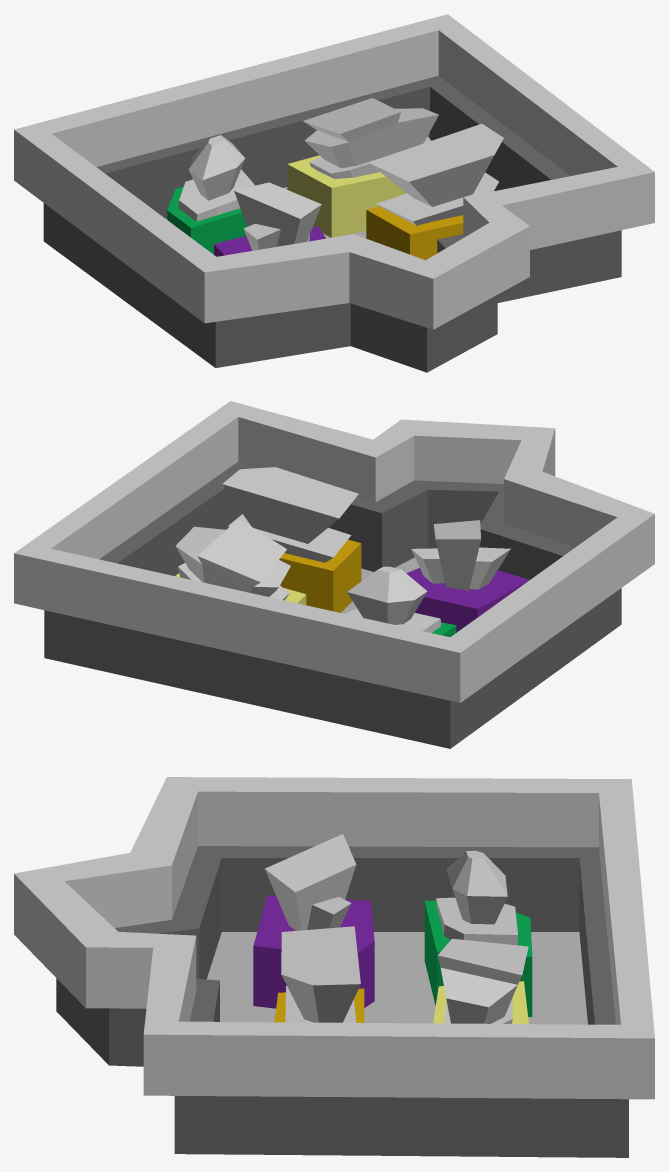
Rendered from level1_5.fbx.
The picture shows the model from 3 angles, top to bottom: view 1: azimuth 30°, elevation 25°; view 2: azimuth 150°, elevation 25°; view 3: azimuth 270°, elevation 25°; orthographic projection. The views are drawn at different scales.
Visible parts, largest first — view 1: 1-5_upper_wall, 1-5_lower_wall, 1-5_pillar_orange_top, 1-5_pillar_yellow_top, 1-5_pillar_yellow, 1-5_pillar_purple_top, 1-5_pillar_green_top, 1-5_pillar_orange, 1-5_pillar_green, 1-5_pillar_purple; view 2: 1-5_upper_wall, 1-5_lower_wall, 1-5_pillar_orange_top, 1-5_pillar_yellow_top, 1-5_pillar_purple_top, 1-5_pillar_green_top, 1-5_pillar_orange, 1-5_pillar_purple; view 3: 1-5_upper_wall, 1-5_lower_wall, 1-5_floor, 1-5_pillar_orange_top, 1-5_pillar_yellow_top, 1-5_pillar_purple_top, 1-5_pillar_green_top, 1-5_pillar_purple, 1-5_pillar_green, 1-5_pillar_yellow, 1-5_pillar_orange.
Part boxes in pixels (<box>): 1-5_upper_wall: <box>14,14,654,329</box>; 1-5_lower_wall: <box>43,75,621,372</box>; 1-5_pillar_orange_top: <box>368,123,503,225</box>; 1-5_pillar_yellow_top: <box>303,98,438,178</box>; 1-5_pillar_yellow: <box>287,155,406,237</box>; 1-5_pillar_purple_top: <box>234,182,321,250</box>; 1-5_pillar_green_top: <box>178,135,254,221</box>; 1-5_pillar_orange: <box>366,206,463,260</box>; 1-5_pillar_green: <box>167,179,255,254</box>; 1-5_pillar_purple: <box>214,226,325,256</box>; 1-5_upper_wall: <box>14,401,654,702</box>; 1-5_lower_wall: <box>44,461,621,748</box>; 1-5_pillar_orange_top: <box>222,467,358,562</box>; 1-5_pillar_yellow_top: <box>175,519,290,600</box>; 1-5_pillar_purple_top: <box>411,520,510,590</box>; 1-5_pillar_green_top: <box>346,566,440,632</box>; 1-5_pillar_orange: <box>279,539,361,612</box>; 1-5_pillar_purple: <box>406,568,529,632</box>; 1-5_upper_wall: <box>14,777,654,1099</box>; 1-5_lower_wall: <box>56,846,628,1157</box>; 1-5_floor: <box>206,932,587,1024</box>; 1-5_pillar_orange_top: <box>281,926,360,1022</box>; 1-5_pillar_yellow_top: <box>437,938,528,1023</box>; 1-5_pillar_purple_top: <box>265,834,356,930</box>; 1-5_pillar_green_top: <box>436,850,517,945</box>; 1-5_pillar_purple: <box>253,895,374,1008</box>; 1-5_pillar_green: <box>424,900,532,1016</box>; 1-5_pillar_yellow: <box>433,981,528,1023</box>; 1-5_pillar_orange: <box>274,988,364,1022</box>.
Bounding box in the file's own units: 18.22 × 4.67 × 18.88.
